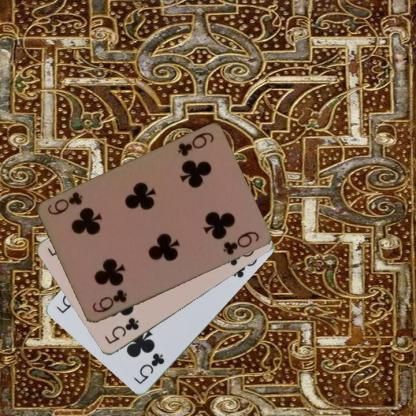5c: (130, 350, 166, 386), (102, 315, 140, 346)
6c: (174, 130, 215, 158), (89, 287, 129, 314)
